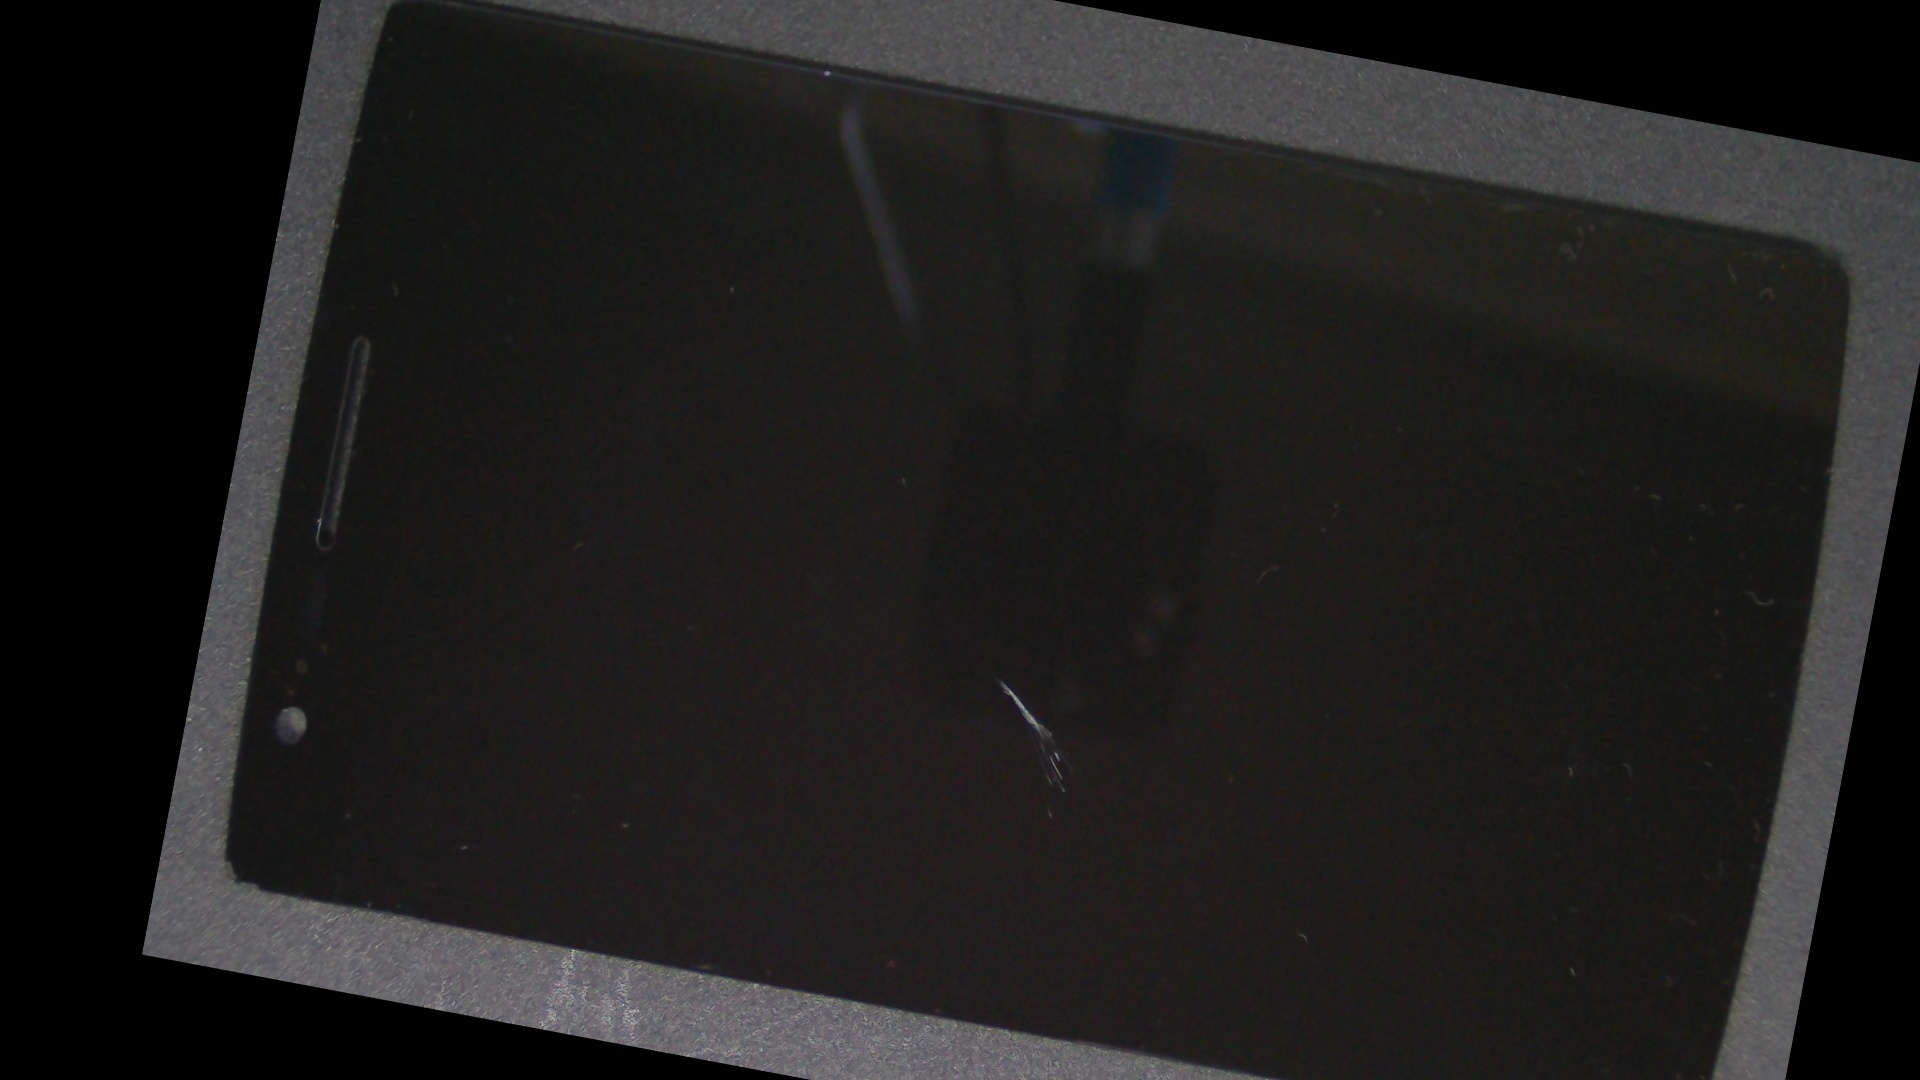oil: (549, 273, 1453, 1080)
